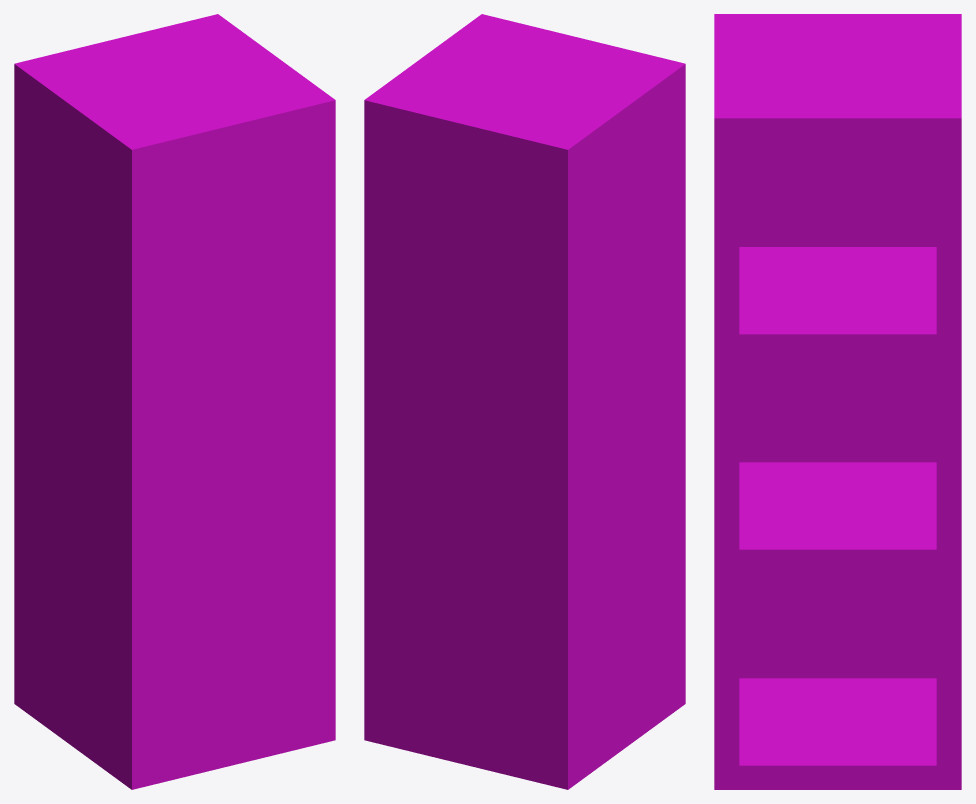
The model's file is asdadas.fbx.
3 views of the same model, side by side, from view 1: azimuth 30°, elevation 25°; view 2: azimuth 150°, elevation 25°; view 3: azimuth 270°, elevation 25° (orthographic). The views are drawn at different scales.
Parts seen in each view (by area): view 1: Shelf; view 2: Shelf; view 3: Shelf.
Boxes of the visible parts, x1,y1,x2,y2 form: Shelf: (14, 14, 335, 789); Shelf: (364, 14, 685, 789); Shelf: (714, 14, 961, 789).
Size of the model in its own units: 10 by 30 by 10.
